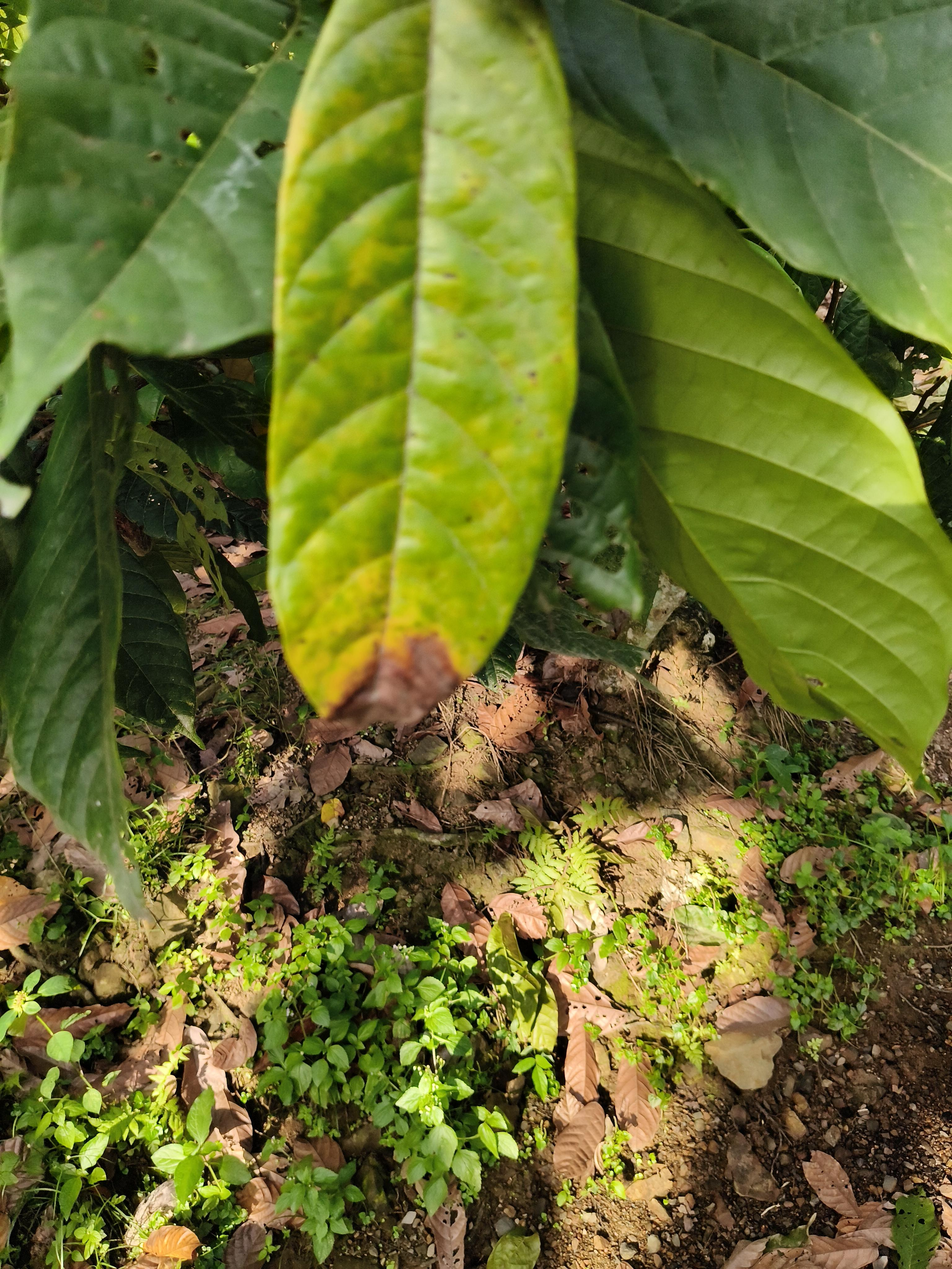deficiencia_potasio: (267, 0, 581, 737)
